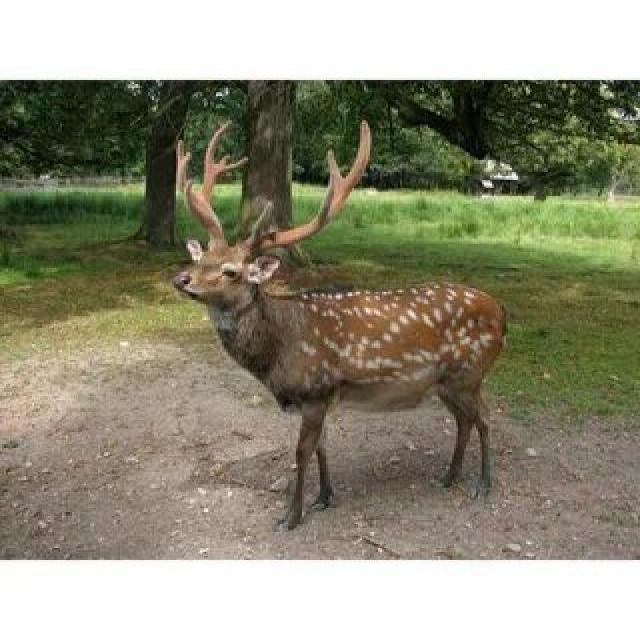deer: (138, 133, 558, 532)
